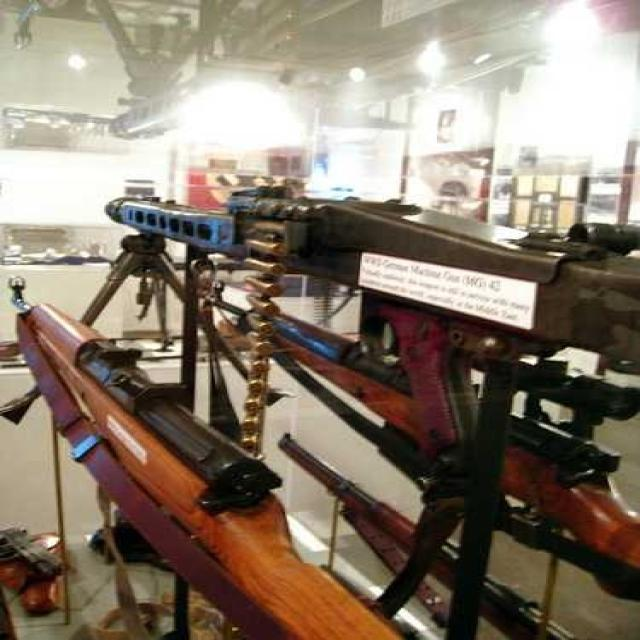heavyweapon: (3, 281, 421, 640), (194, 281, 640, 567), (64, 147, 640, 367), (272, 428, 574, 640)
